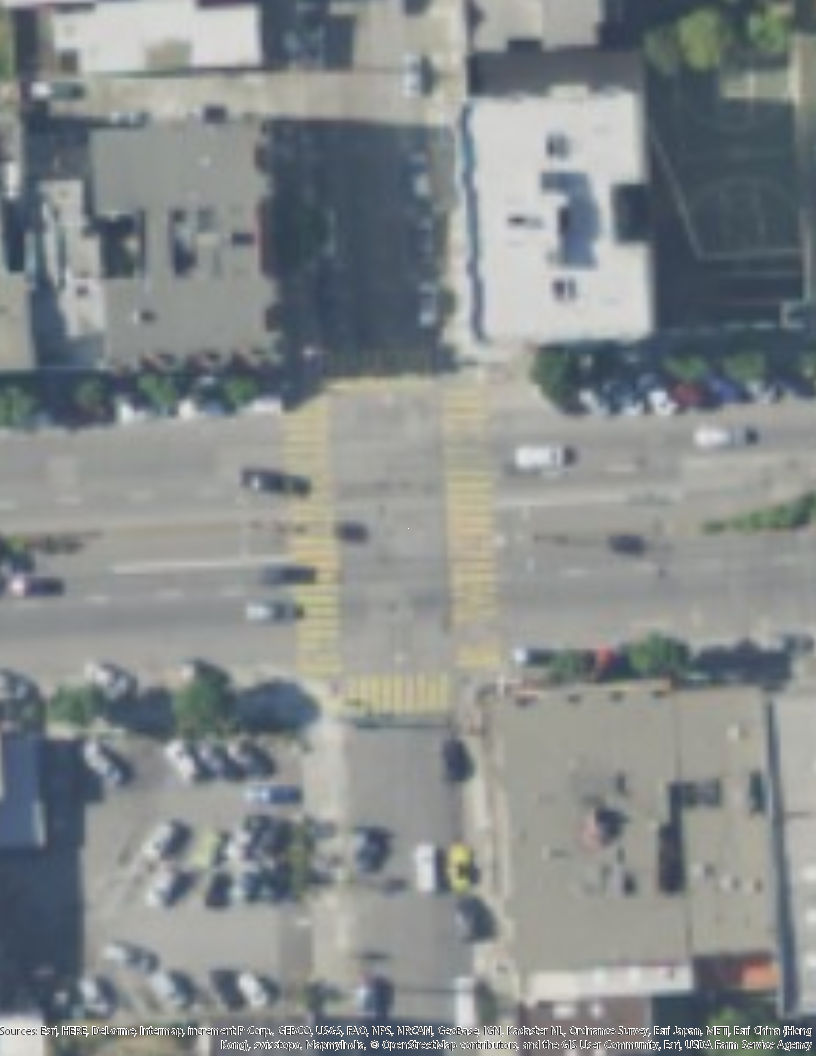zebracross: (277, 390, 346, 675), (437, 383, 505, 672), (345, 670, 451, 719), (310, 354, 432, 388)
